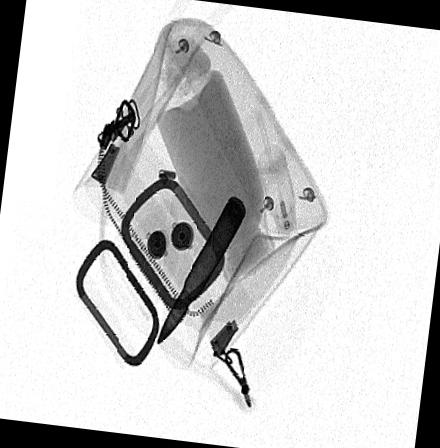Bullet: (155, 196, 246, 348)
